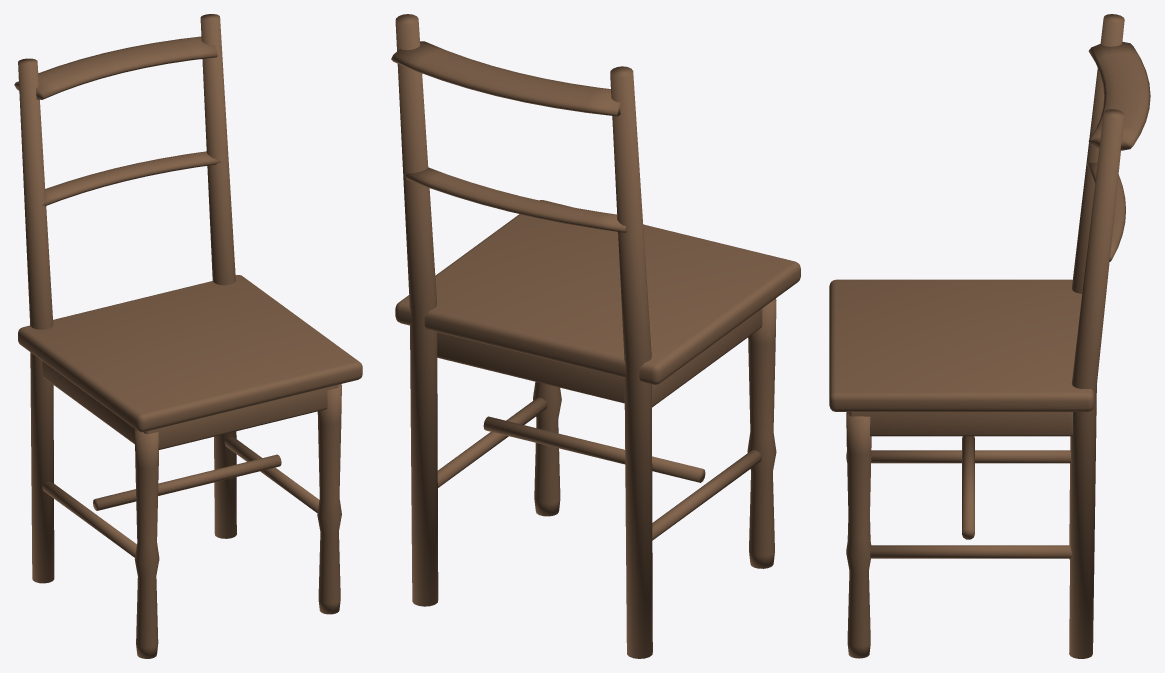
The model's file is fx_kitchen_chair.glb.
3 views of the same model, side by side, from view 1: azimuth 30°, elevation 25°; view 2: azimuth 150°, elevation 25°; view 3: azimuth 270°, elevation 25° (orthographic). The views are drawn at different scales.
Parts seen in each view (by area): view 1: fx_kitchen_chair; view 2: fx_kitchen_chair; view 3: fx_kitchen_chair.
Part boxes in pixels (x1=…): fx_kitchen_chair: x1=14, y1=14, x2=362, y2=658; fx_kitchen_chair: x1=391, y1=14, x2=800, y2=658; fx_kitchen_chair: x1=829, y1=14, x2=1150, y2=658.
Size of the model in its own units: 0.42 by 0.9018 by 0.485.
